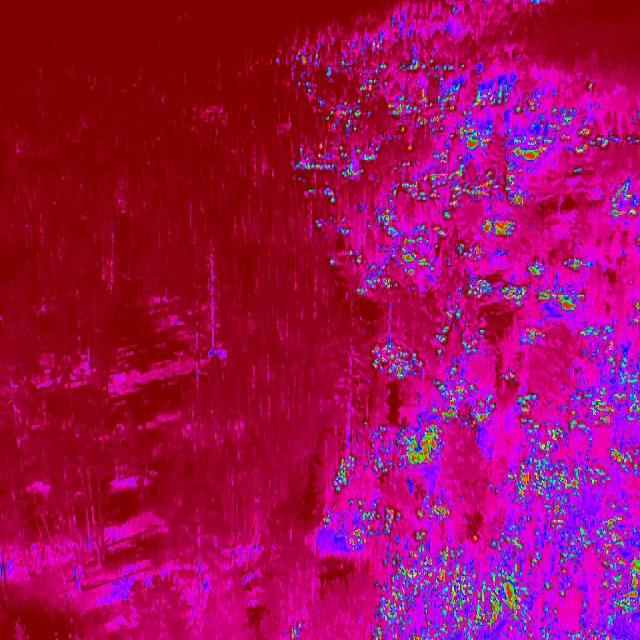fire: (282, 29, 639, 222), (324, 218, 606, 314), (320, 424, 450, 554), (373, 538, 536, 637), (509, 386, 616, 524), (524, 516, 638, 638), (566, 303, 640, 435), (429, 309, 504, 425), (367, 338, 427, 386), (608, 438, 640, 482), (514, 326, 550, 348), (280, 616, 308, 640)
